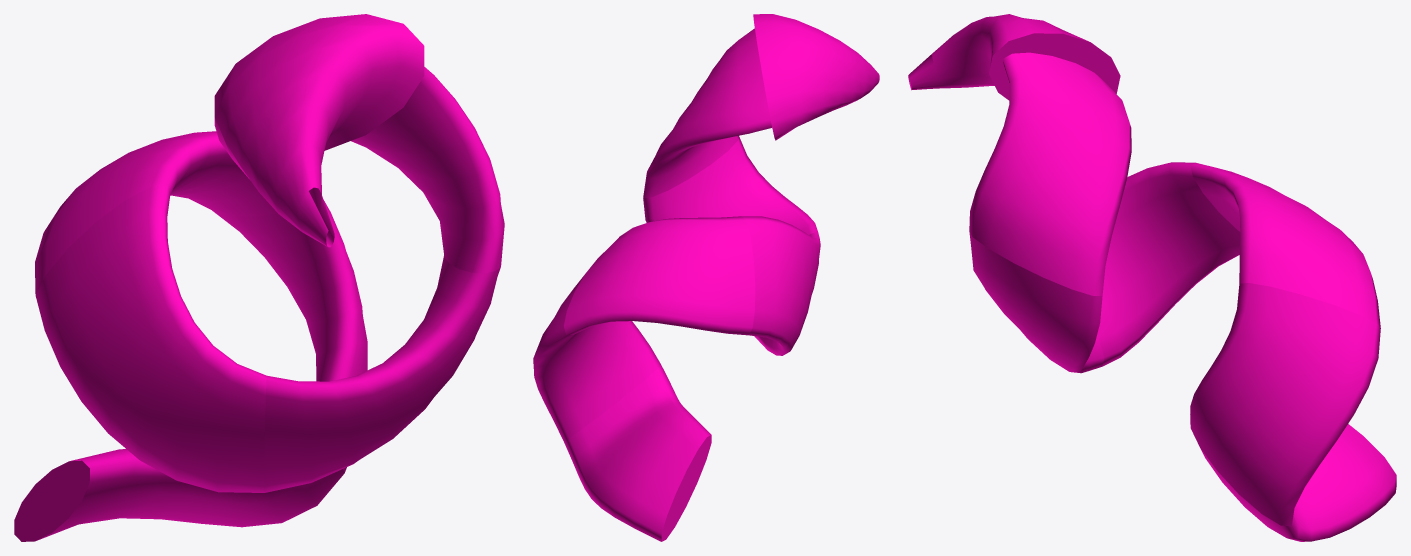
The model's file is InsulinRibbon.fbx.
3 renders of one model, left to right at view 1: azimuth 30°, elevation 25°; view 2: azimuth 150°, elevation 25°; view 3: azimuth 270°, elevation 25°, orthographic. The views are drawn at different scales.
Parts seen in each view (by area): view 1: insulin_ribbon; view 2: insulin_ribbon; view 3: insulin_ribbon.
Part boxes in pixels (left/top/right/bottom): insulin_ribbon: left=14, top=14, right=504, bottom=541; insulin_ribbon: left=533, top=14, right=879, bottom=541; insulin_ribbon: left=908, top=14, right=1396, bottom=541.
Size of the model in its own units: 576 by 1065 by 964.
